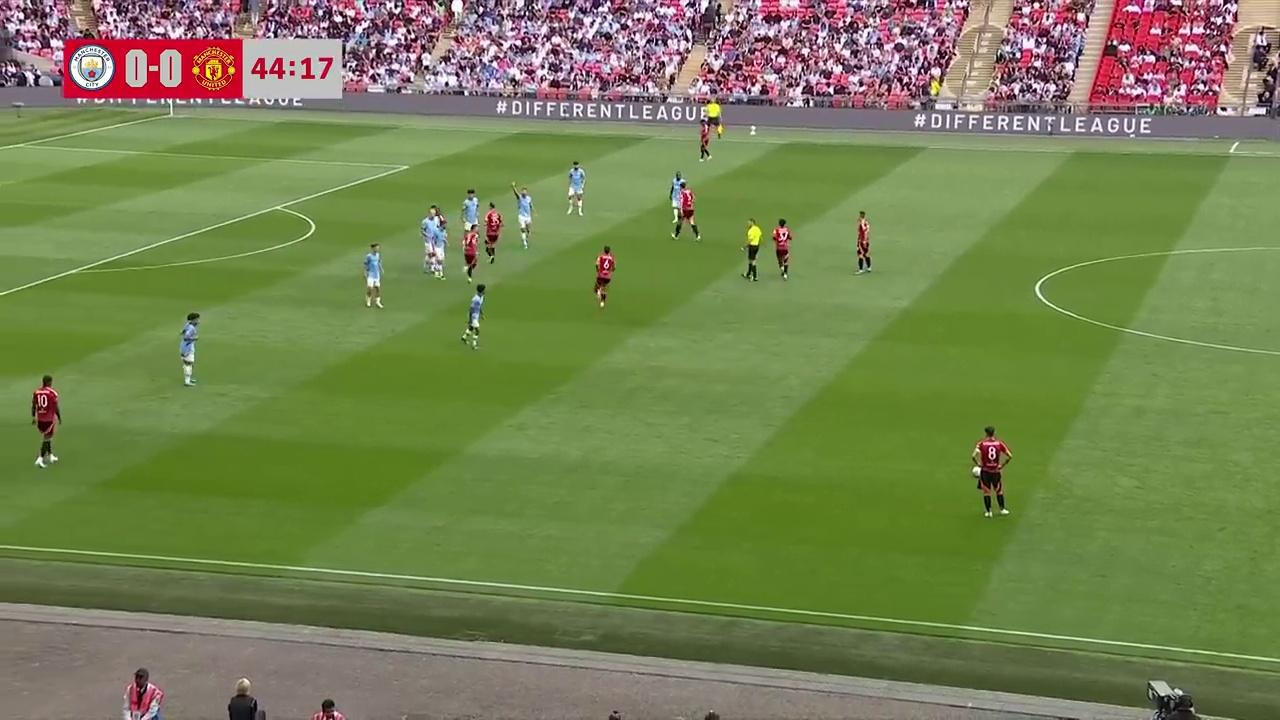ball: (971, 462, 984, 479)
player: (971, 425, 1011, 518), (30, 375, 61, 469), (177, 311, 200, 386), (461, 284, 486, 349), (675, 184, 701, 241), (362, 242, 384, 309), (420, 209, 441, 276), (593, 245, 615, 308), (514, 186, 535, 250), (772, 218, 793, 280), (483, 201, 504, 263), (426, 204, 449, 258), (460, 224, 479, 282), (566, 160, 585, 216), (856, 211, 872, 273), (460, 188, 481, 235), (669, 172, 687, 217), (705, 101, 723, 142), (699, 120, 712, 161)
referee: (740, 217, 763, 282), (708, 100, 724, 140)
